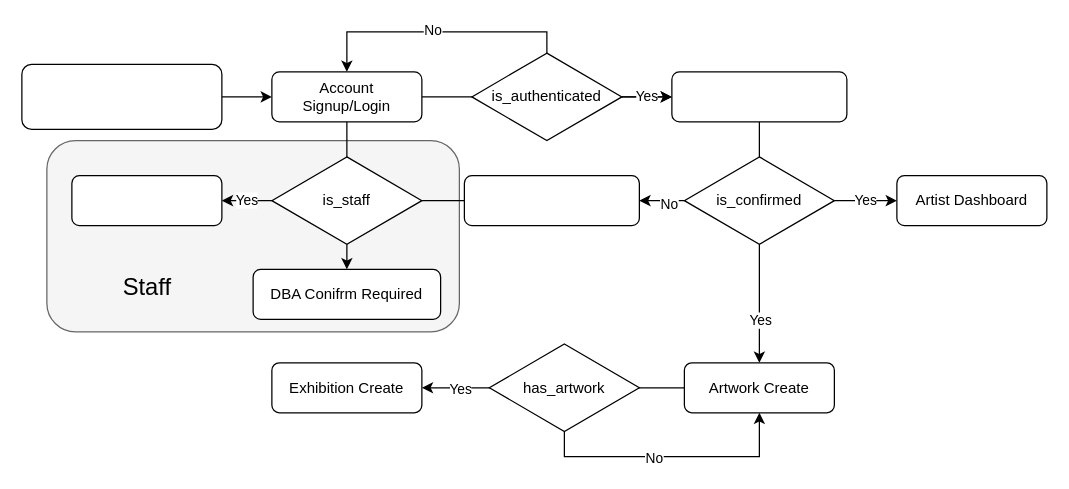
Some shapes in this 1069 by 489 pixel diagram are drawn without their labels. Here are the shapes that lost their labels. From the top down, the centre of each, then its label:
At pixel 121 96: "Artwork List/Detail/Search Artist List/Detail Exhibition List/Detail".
At pixel 759 96: "Artist Create(Register)".
At pixel 146 200: "Confirm/Reject".
At pixel 551 200: "Staff Confirm Required".
